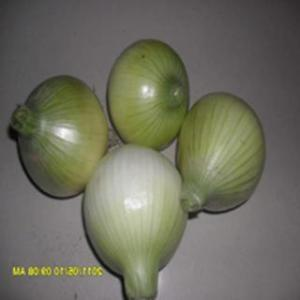onion: (80, 142, 190, 300), (168, 90, 270, 218), (8, 74, 102, 200), (106, 38, 192, 148)
